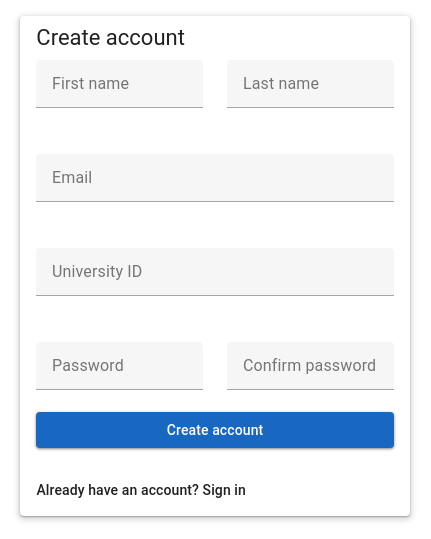
Test: Feature 1 — User Authentication & Session Management › US-1.1 — Registration › User submits registration with missing universityId
Step 1. Type "Jane" into the field labelled "First name" → x=120, y=84, box 36,60 -> 203,108
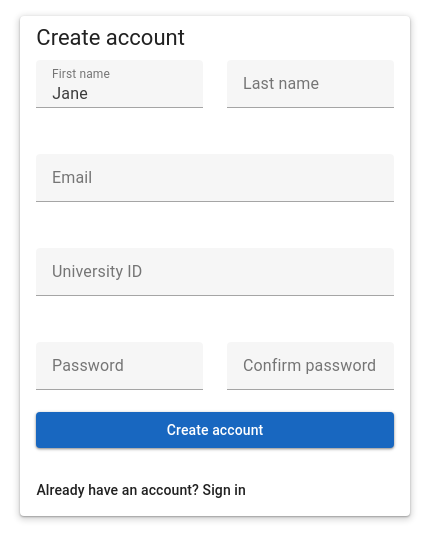
Step 2. Type "Doe" into the field labelled "Last name" → x=310, y=84, box 227,60 -> 394,108
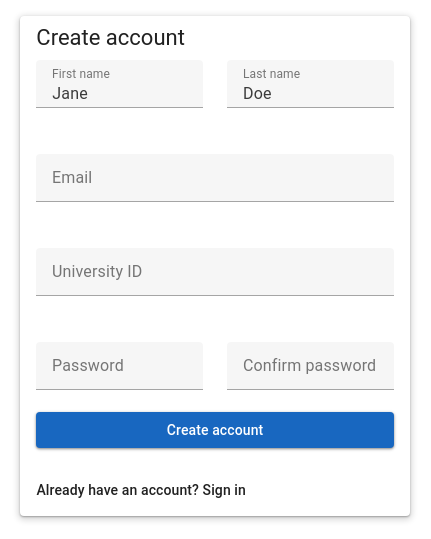
Step 3. Type "jane@example.com" into the field labelled "Email" → x=215, y=178, box 36,154 -> 394,202
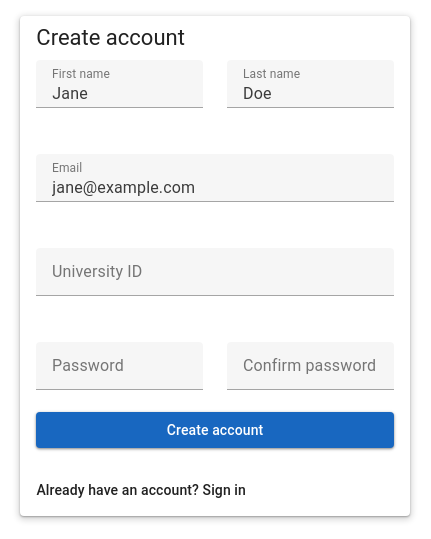
Step 4. Type "password123" into the password field labelled "Password" → x=120, y=366, box 36,342 -> 203,390
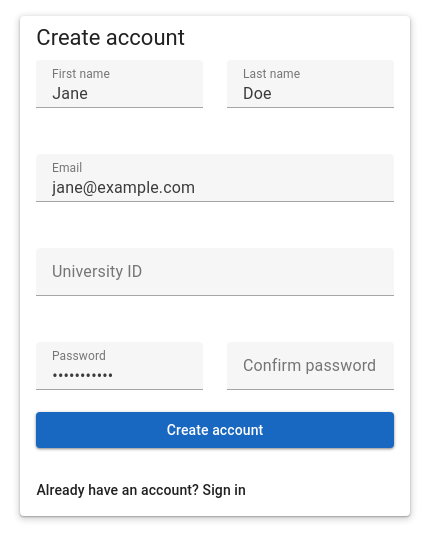
Step 5. Type "password123" into the password field labelled "Confirm password" → x=310, y=366, box 227,342 -> 394,390
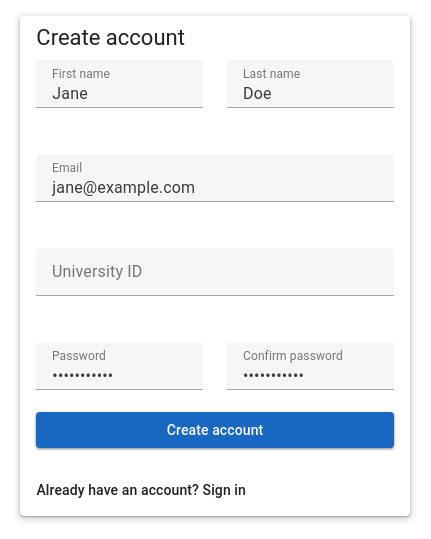
Step 6. Submit the form, box 36,60 -> 394,448
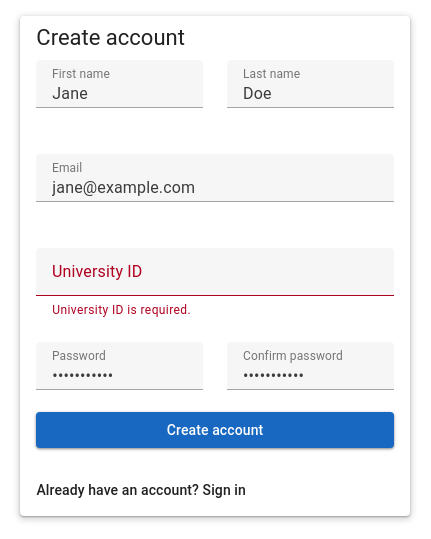
Result: the text "University ID is required." is shown at 52,303 -> 191,317
